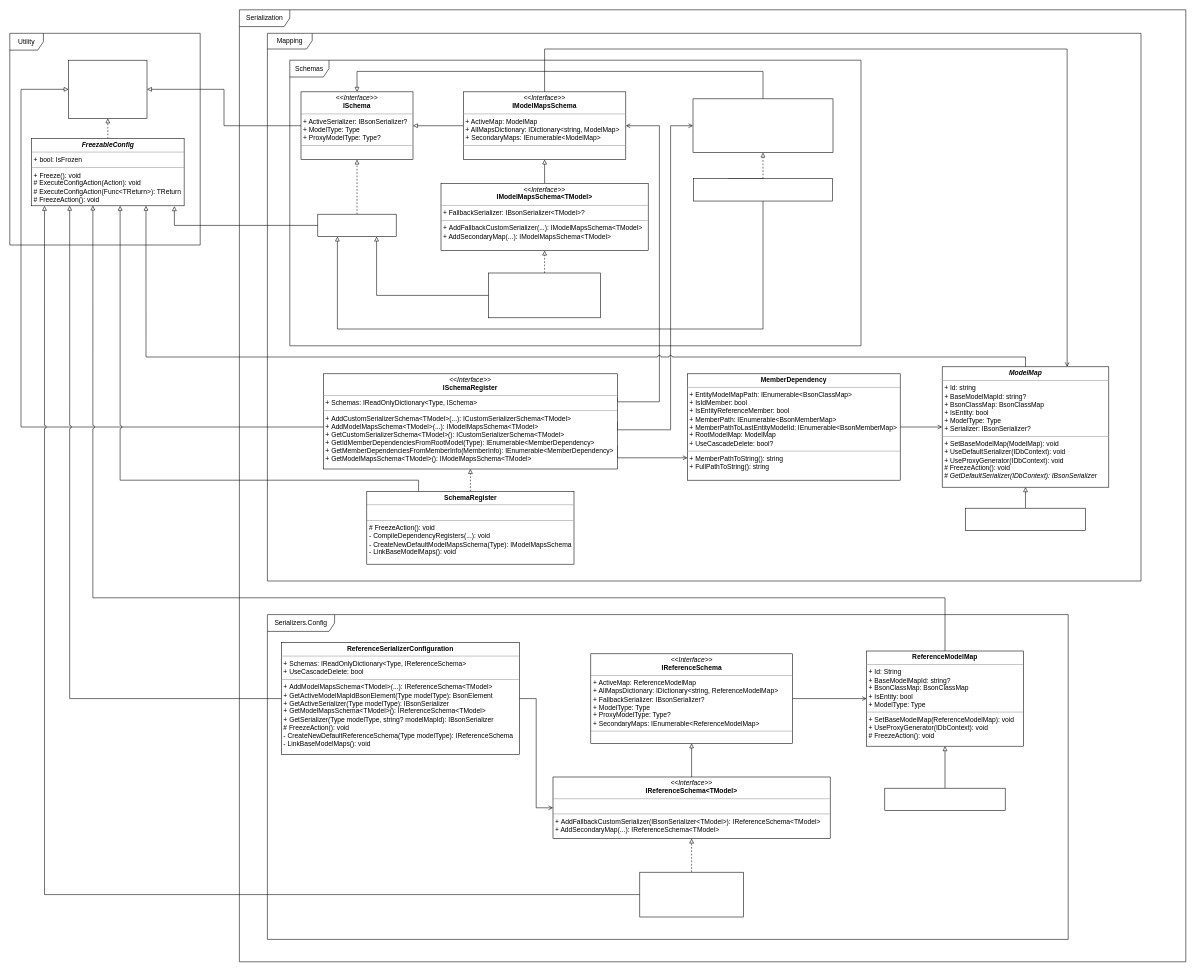
Some shapes in this 1196 by 972 pixel diagram are drawn without their labels. The centre of each missing label's shape, as x and y in pixels:
"<<Interface>> ICustomSerializerSchema<TModel>" belongs at point 762,125.
"<<Interface>> IFreezableConfig + bool: IsFrozen + Freeze(): void" belongs at point 107,89.
"CustomSerializerSchema<TModel>" belongs at point 762,189.
"ModelMap<TModel>" belongs at point 1025,519.
"ModelMapsSchema<TModel> # FreezeAction(): void" belongs at point 544,295.
"ReferenceModelMap<TModel>" belongs at point 944,799.
"ReferenceSchema<TModel> # FreezeAction(): void" belongs at point 691,894.
"SchemaBase" belongs at point 356,225.
